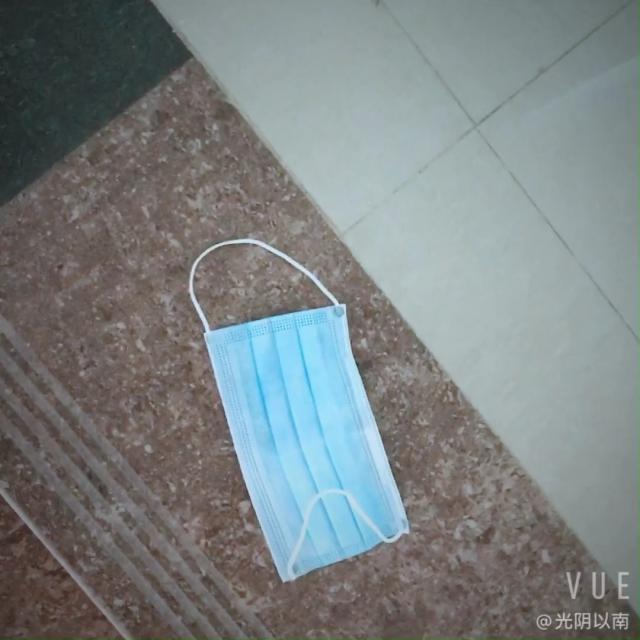face mask: (188, 290, 386, 588)
